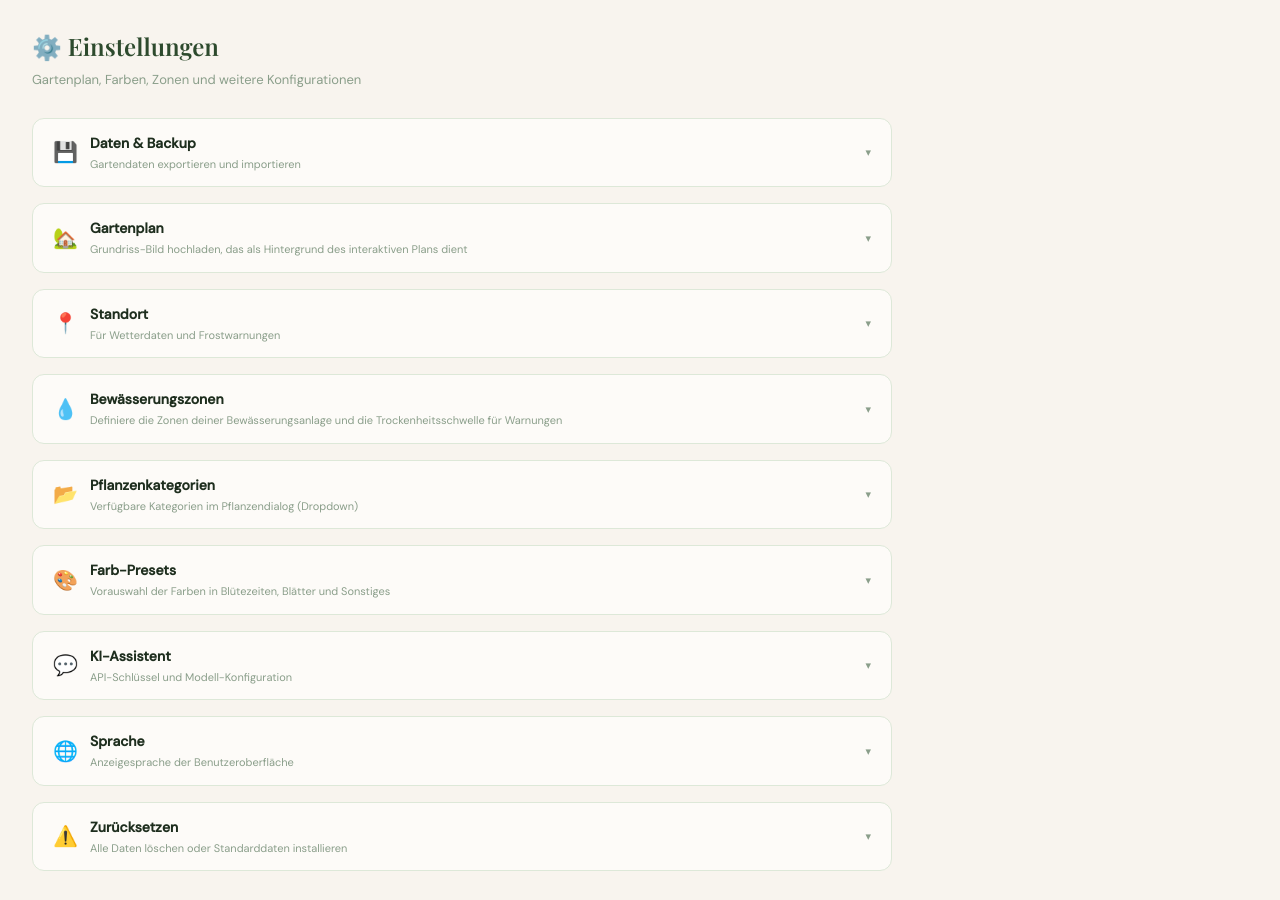
Scenario: SettingsView — API integration › shows success feedback after save (AC #4)
The width and height of the screenshot is (1280, 900).
Step 1. Click the button "📍 Standort Für Wetterdaten und Frostwarnungen ▾" → (119, 314), box [53,304,871,342]
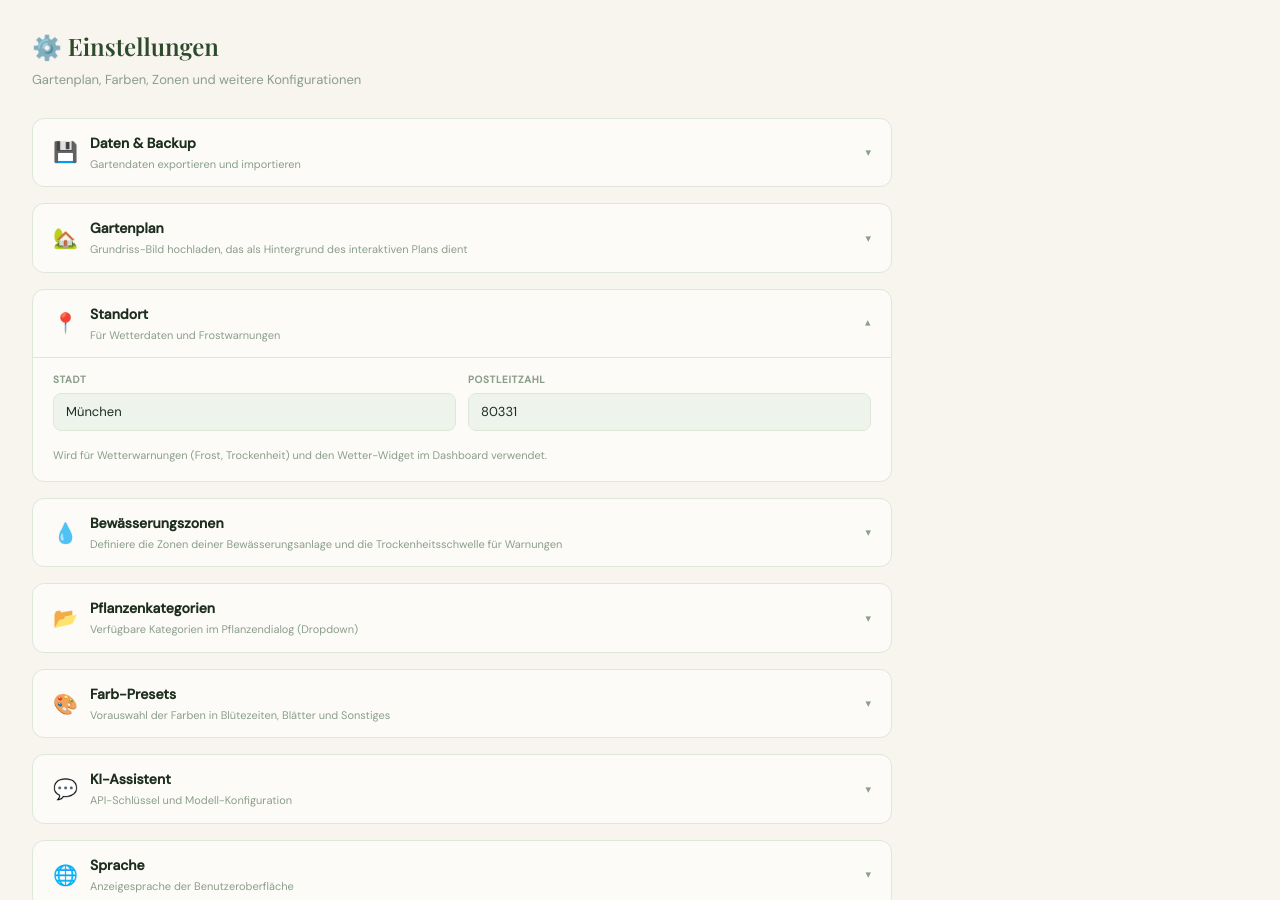
Step 2. Replace the text in the field showing "München" with "Berlin" → (254, 412), box [53,393,456,430]
(page scrolled)
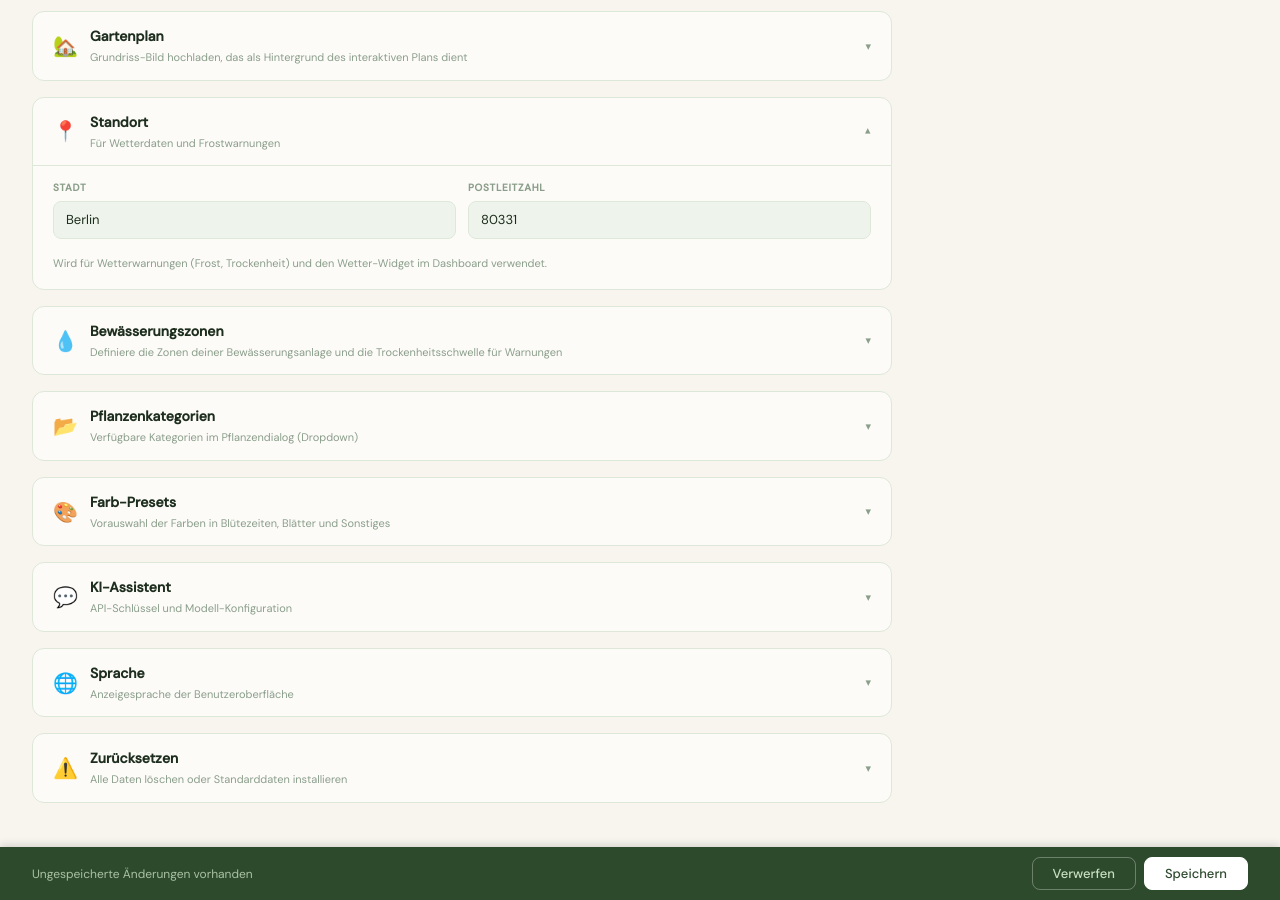
Step 3. Click the button with test id "save-bar-save" → (1196, 874), box [1144,857,1248,890]
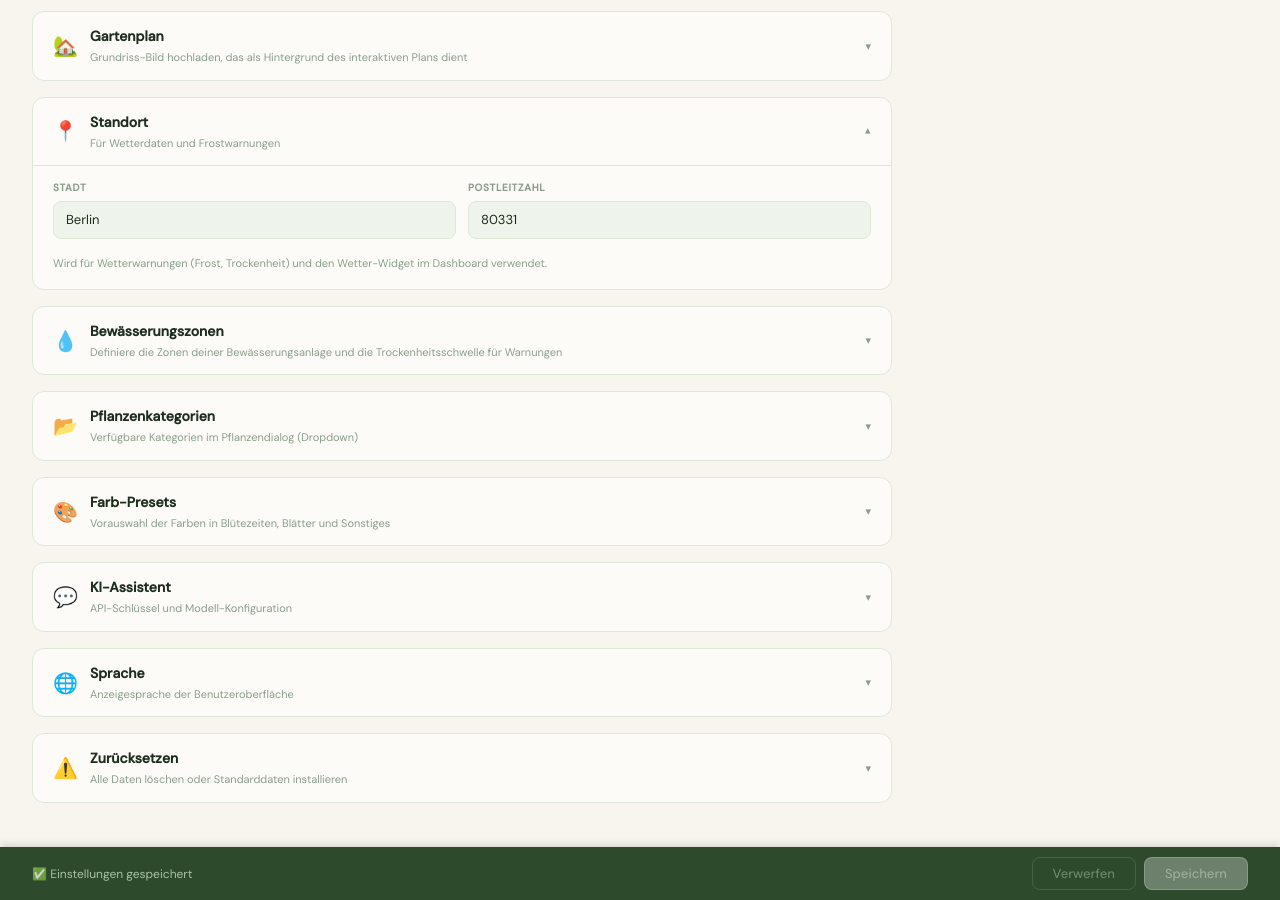
Check: the text "✅ Einstellungen gespeichert" is shown, box [32,865,192,883]
